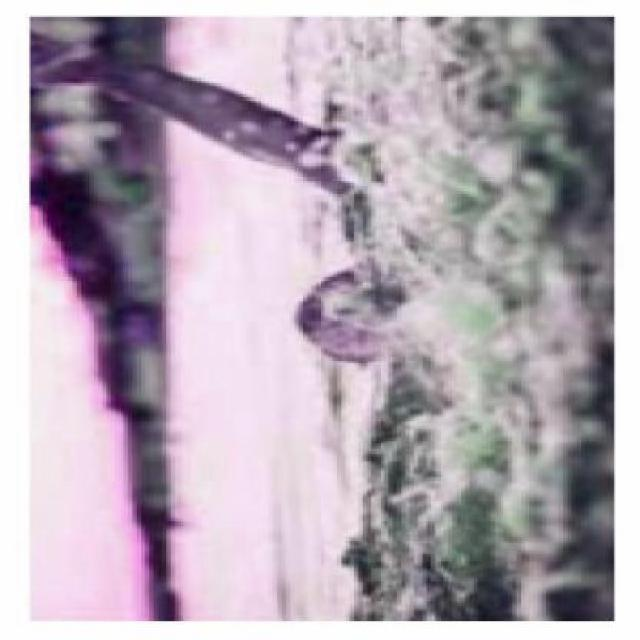drowning: (35, 42, 402, 366)
